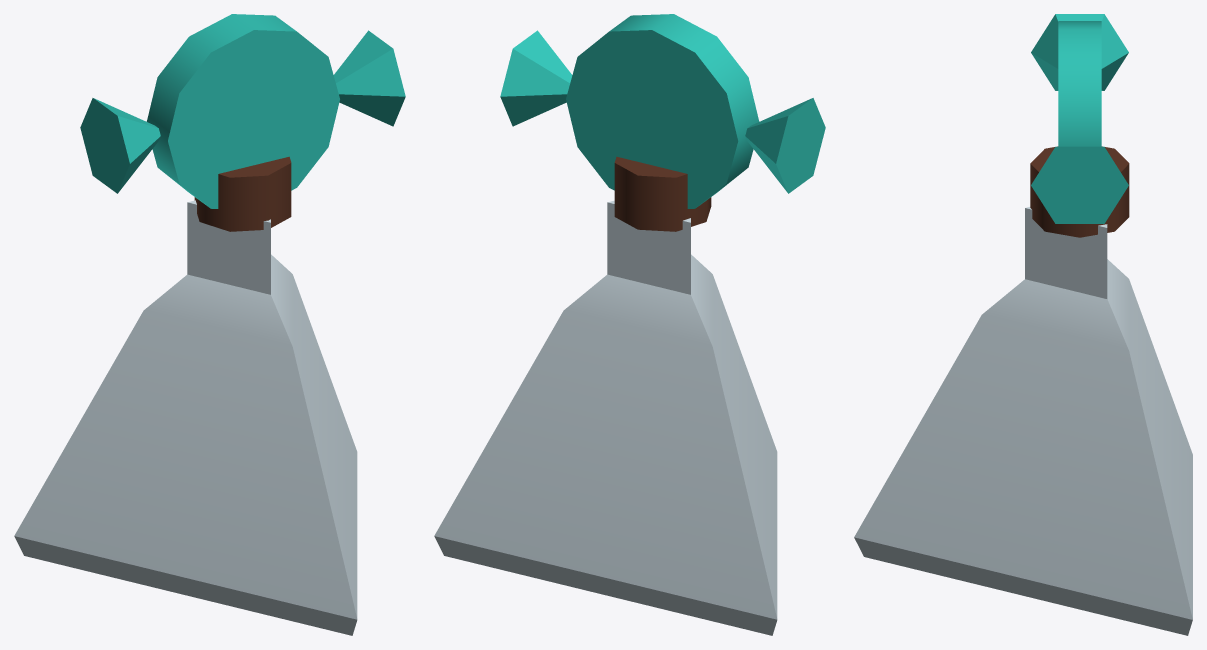
Rendered from Potion_Bottle_Triangle.fbx.
The picture shows the model from 3 angles, left to right: view 1: azimuth 30°, elevation 25°; view 2: azimuth 150°, elevation 25°; view 3: azimuth 270°, elevation 25°; orthographic projection.
Visible parts, largest first — view 1: Potion_Bottle_Triangle_Glass, Potion_Bottle_Triangle_Cap; view 2: Potion_Bottle_Triangle_Glass, Potion_Bottle_Triangle_Cap; view 3: Potion_Bottle_Triangle_Glass, Potion_Bottle_Triangle_Cap.
Boxes of the visible parts, x1=… form: Potion_Bottle_Triangle_Glass: x1=14, y1=200, x2=357, y2=635; Potion_Bottle_Triangle_Cap: x1=80, y1=14, x2=405, y2=231; Potion_Bottle_Triangle_Glass: x1=434, y1=200, x2=777, y2=635; Potion_Bottle_Triangle_Cap: x1=500, y1=14, x2=825, y2=231; Potion_Bottle_Triangle_Glass: x1=854, y1=207, x2=1192, y2=635; Potion_Bottle_Triangle_Cap: x1=1030, y1=14, x2=1129, y2=237.
Size of the model in its own units: 0.1992 by 0.296 by 0.1725.
